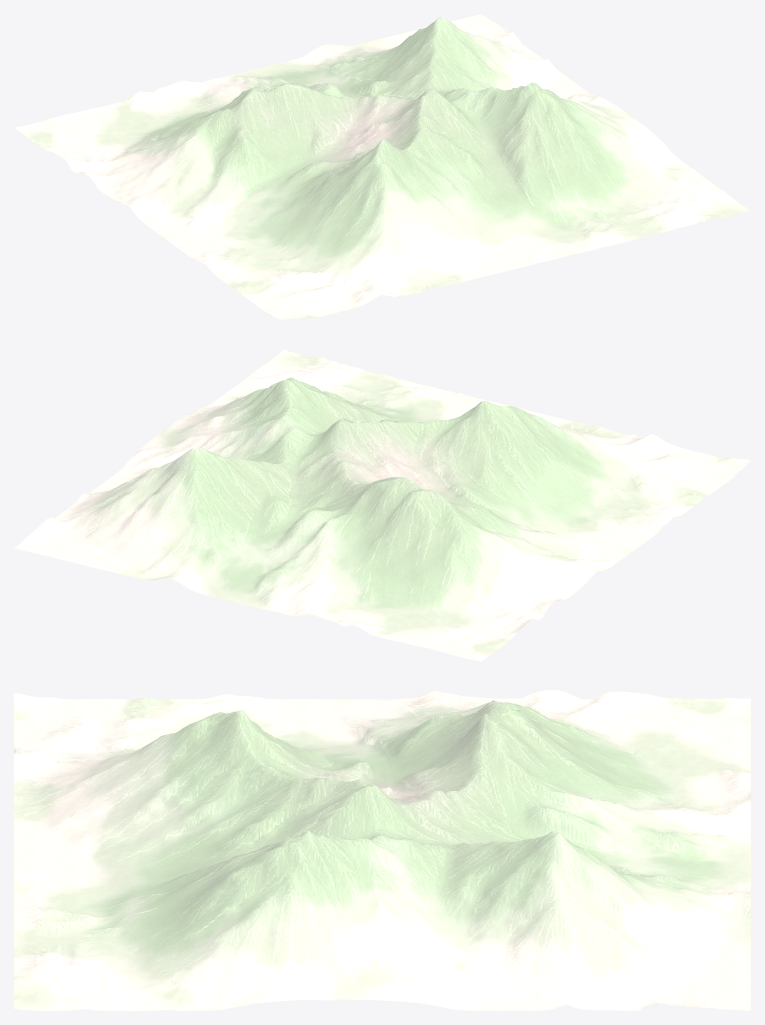
Rendered from Mountain.fbx.
3 renders of one model, top to bottom at view 1: azimuth 30°, elevation 25°; view 2: azimuth 150°, elevation 25°; view 3: azimuth 270°, elevation 25°, orthographic. The views are drawn at different scales.
Parts seen in each view (by area): view 1: WK_Mountain_01; view 2: WK_Mountain_01; view 3: WK_Mountain_01.
Boxes of the visible parts, x1,y1,x2,y2 form: WK_Mountain_01: (14, 14, 750, 320); WK_Mountain_01: (14, 349, 750, 661); WK_Mountain_01: (14, 690, 750, 1010).
Size of the model in its own units: 120000 by 19906 by 120000.
1 material, 1 textured.
